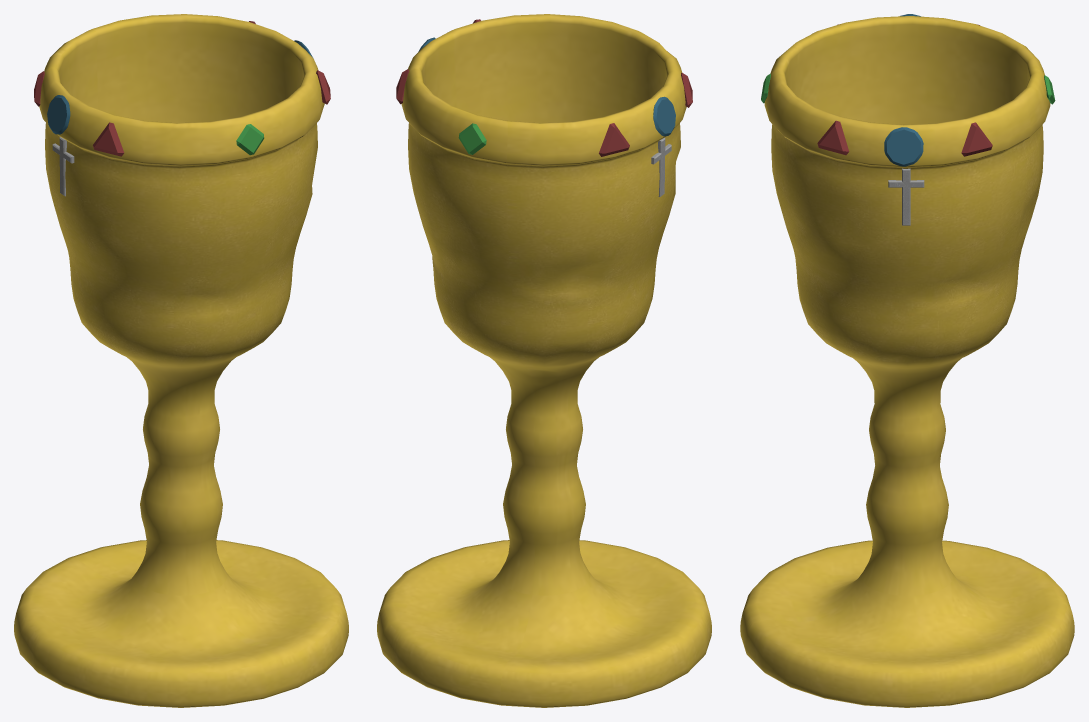
The picture shows the model from 3 angles, left to right: view 1: azimuth 30°, elevation 25°; view 2: azimuth 150°, elevation 25°; view 3: azimuth 270°, elevation 25°; orthographic projection.
Visible parts, largest first — view 1: revolvedSurface1, pPrism3, pPrism13, pPrism2; view 2: revolvedSurface1, pPrism3, pPrism1, pPrism16; view 3: revolvedSurface1, pPrism12, Cross:good_uvs:pCube6, pPrism15, pPrism14.
Part boxes in pixels (left/top/right/bottom): revolvedSurface1: left=14, top=14, right=348, bottom=707; pPrism3: left=47, top=95, right=70, bottom=134; pPrism13: left=93, top=122, right=124, bottom=156; pPrism2: left=236, top=124, right=264, bottom=155; revolvedSurface1: left=377, top=14, right=711, bottom=707; pPrism3: left=653, top=96, right=675, bottom=136; pPrism1: left=599, top=123, right=629, bottom=156; pPrism16: left=458, top=123, right=486, bottom=154; revolvedSurface1: left=740, top=16, right=1074, bottom=707; pPrism12: left=884, top=127, right=923, bottom=166; Cross:good_uvs:pCube6: left=888, top=168, right=924, bottom=225; pPrism15: left=817, top=120, right=849, bottom=155; pPrism14: left=961, top=122, right=992, bottom=156.
Size of the model in its own units: 1.06 by 2 by 1.06.
5 materials, 5 textured.
